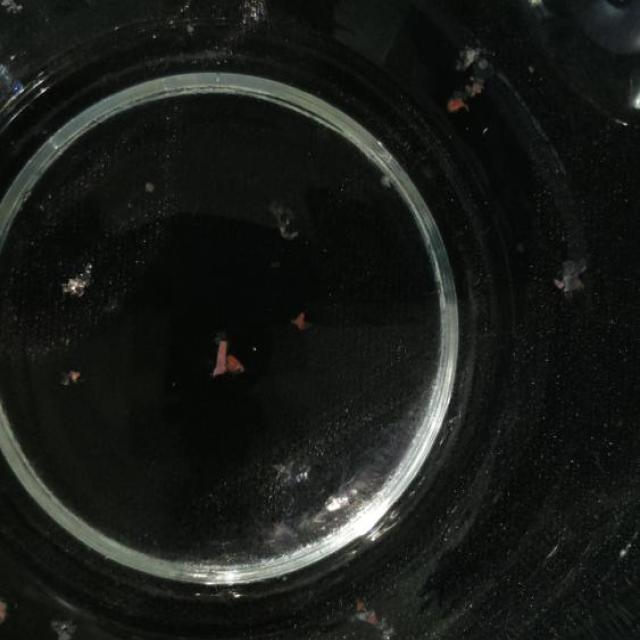fiber: (449, 47, 495, 114), (348, 589, 402, 640), (552, 249, 595, 304), (57, 261, 103, 302), (208, 342, 250, 383), (271, 200, 304, 244), (62, 364, 87, 392), (294, 309, 316, 335), (50, 621, 75, 640), (139, 180, 166, 190), (381, 174, 398, 189)
